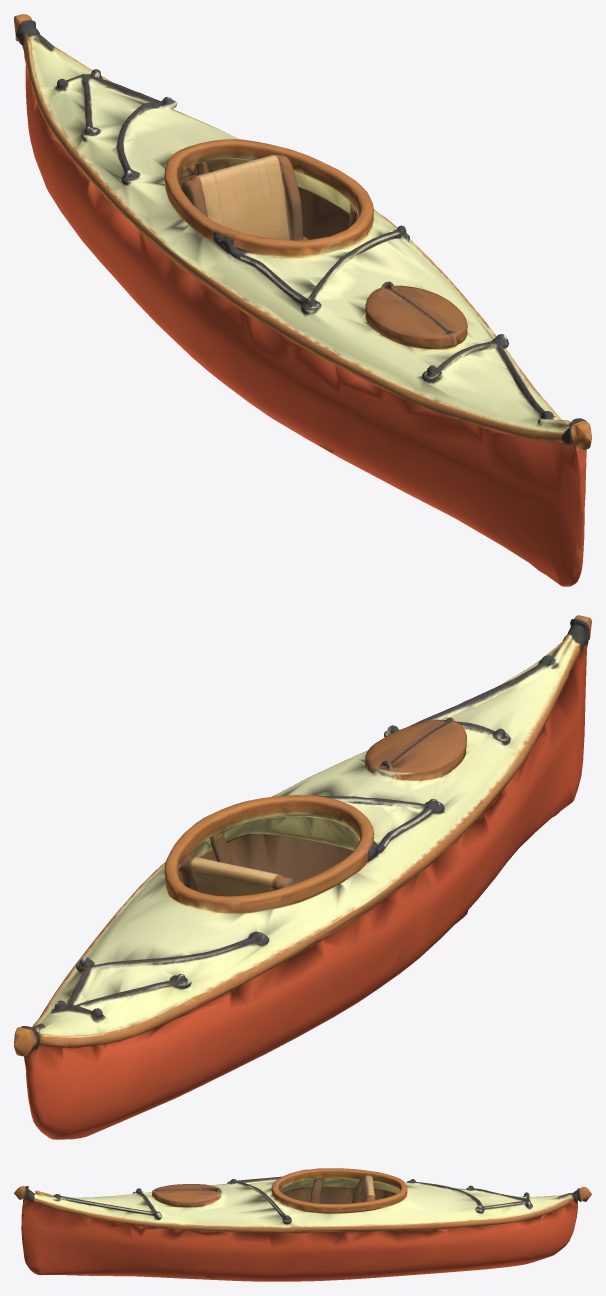
The model's file is kayak.glb.
The picture shows the model from 3 angles, top to bottom: view 1: azimuth 30°, elevation 25°; view 2: azimuth 150°, elevation 25°; view 3: azimuth 270°, elevation 25°; orthographic projection. The views are drawn at different scales.
Visible parts, largest first — view 1: tripo_node_c4f7b5b7-9578-4b11-8533-931878274d89; view 2: tripo_node_c4f7b5b7-9578-4b11-8533-931878274d89; view 3: tripo_node_c4f7b5b7-9578-4b11-8533-931878274d89.
Part boxes in pixels (<box>): tripo_node_c4f7b5b7-9578-4b11-8533-931878274d89: <box>14,14,591,586</box>; tripo_node_c4f7b5b7-9578-4b11-8533-931878274d89: <box>14,615,591,1139</box>; tripo_node_c4f7b5b7-9578-4b11-8533-931878274d89: <box>14,1168,591,1281</box>.
Size of the model in its own units: 0.1982 by 0.1721 by 1.
1 material, 1 textured.
